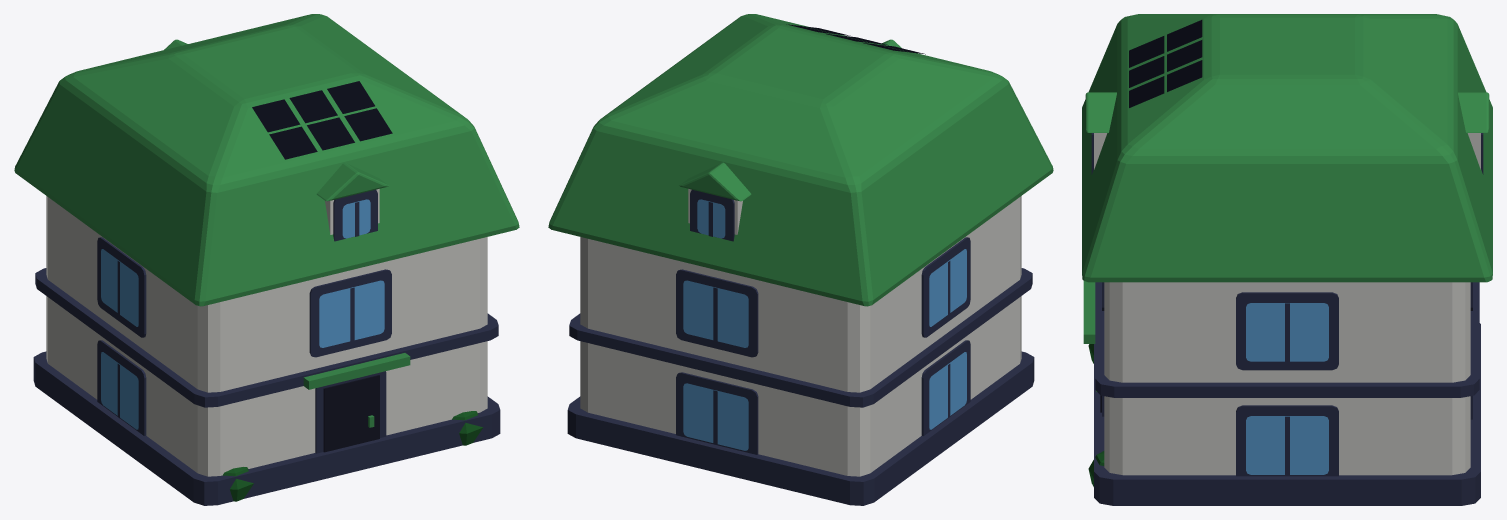
The model's file is house-1x1-2f-mansard-a-solar.glb.
The picture shows the model from 3 angles, left to right: view 1: azimuth 30°, elevation 25°; view 2: azimuth 150°, elevation 25°; view 3: azimuth 270°, elevation 25°; orthographic projection. The views are drawn at different scales.
Visible parts, largest first — view 1: house-1x1-2f-mansard-a-solar; view 2: house-1x1-2f-mansard-a-solar; view 3: house-1x1-2f-mansard-a-solar.
Part boxes in pixels (x1,y1,x2,y2): house-1x1-2f-mansard-a-solar: (14, 14, 519, 505); house-1x1-2f-mansard-a-solar: (548, 14, 1053, 505); house-1x1-2f-mansard-a-solar: (1082, 14, 1492, 505).
Bounding box in the file's own units: 0.9876 × 1 × 0.9876.
1 material, 1 textured.
